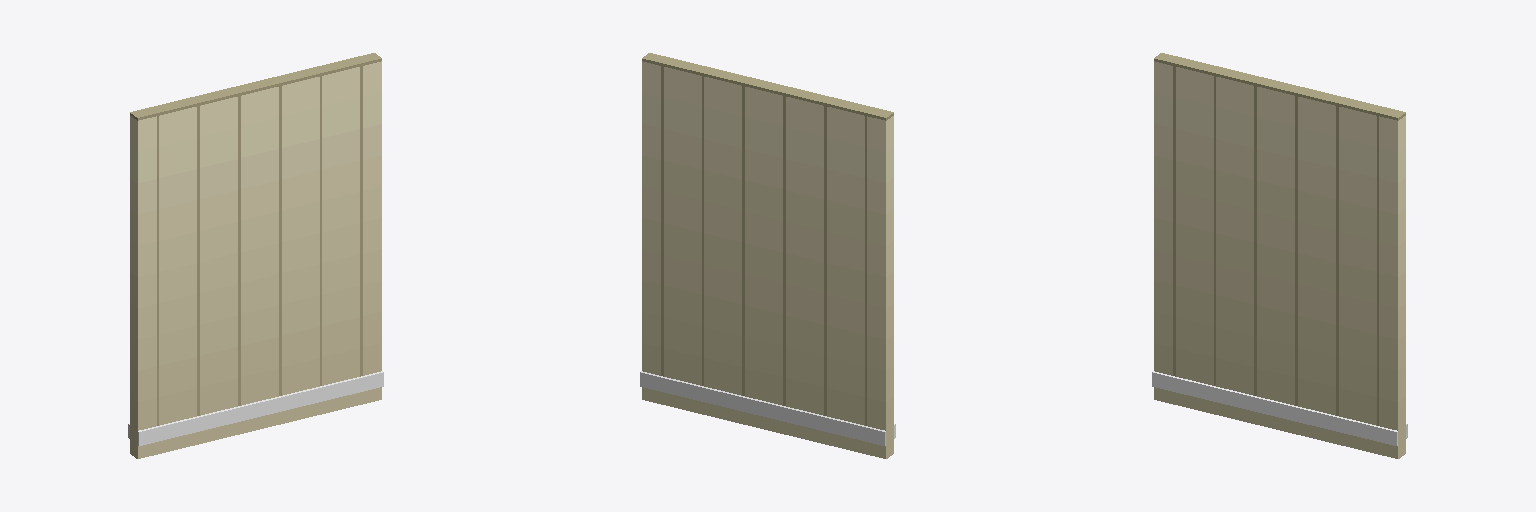
3 renders of one model, left to right at view 1: azimuth 30°, elevation 25°; view 2: azimuth 150°, elevation 25°; view 3: azimuth 330°, elevation 25°, orthographic.
Parts seen in each view (by area): view 1: object 1; view 2: object 1; view 3: object 1.
Boxes of the visible parts, x1,y1,x2,y2 form: object 1: [128, 53, 383, 458]; object 1: [640, 53, 895, 458]; object 1: [1152, 53, 1407, 458].
Size of the model in its own units: 9 by 12 by 0.7.
1 materials, 1 textured.